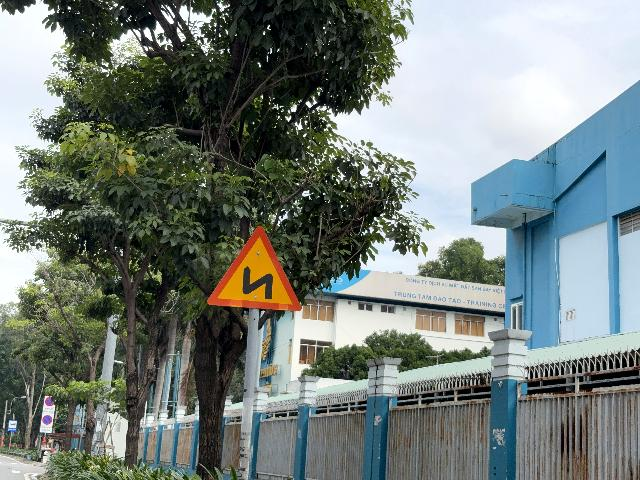nhieu-cho-ngoat-nguy-hiem-lien-tiep: (207, 225, 302, 311)
